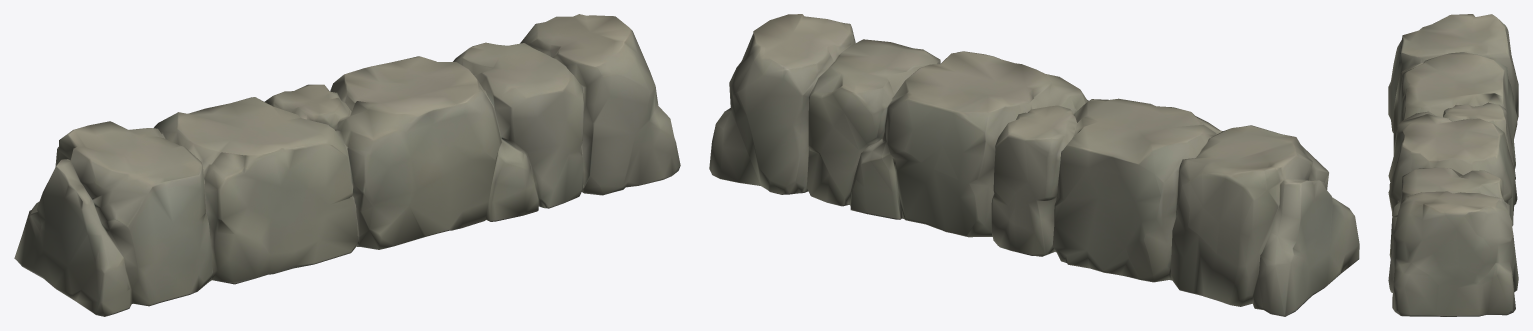
Rendered from wall.fbx.
The picture shows the model from 3 angles, left to right: view 1: azimuth 30°, elevation 25°; view 2: azimuth 150°, elevation 25°; view 3: azimuth 270°, elevation 25°; orthographic projection. The views are drawn at different scales.
Visible parts, largest first — view 1: ENV_S01_Wall_r001; view 2: ENV_S01_Wall_r001; view 3: ENV_S01_Wall_r001.
Part boxes in pixels (x1,y1,x2,y2): ENV_S01_Wall_r001: (14, 14, 680, 316); ENV_S01_Wall_r001: (709, 14, 1359, 316); ENV_S01_Wall_r001: (1388, 14, 1518, 316).
Size of the model in its own units: 240 by 50 by 60.
1 material, 1 textured.
